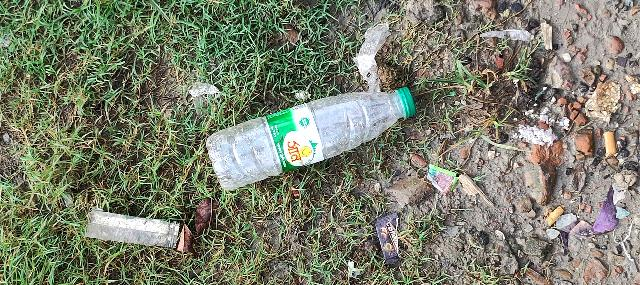bottle: (194, 86, 470, 192)
